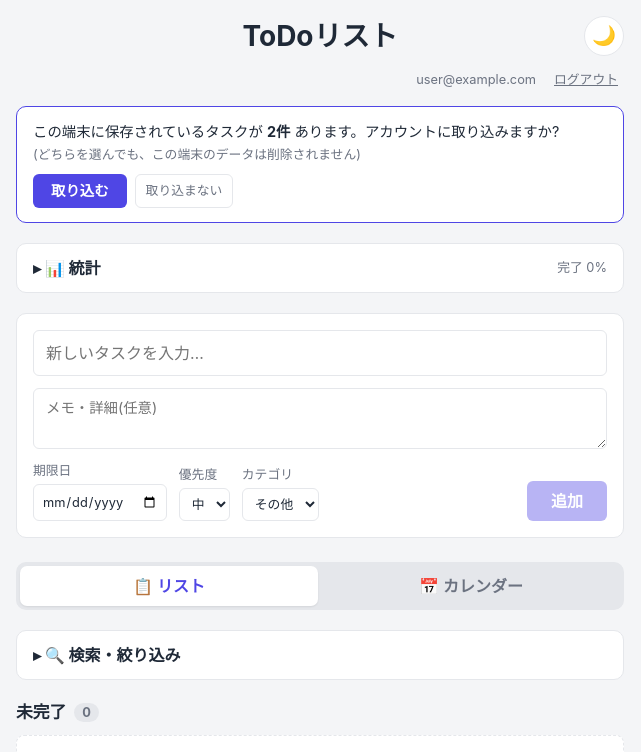
Test case: この端末に保存されていたタスクの取り込み › 「取り込む」でアカウントに追加され、画面にも表示される。端末のデータは消えない
Step 1. Click the button "取り込む" → (80, 191), box 33,174 -> 127,208
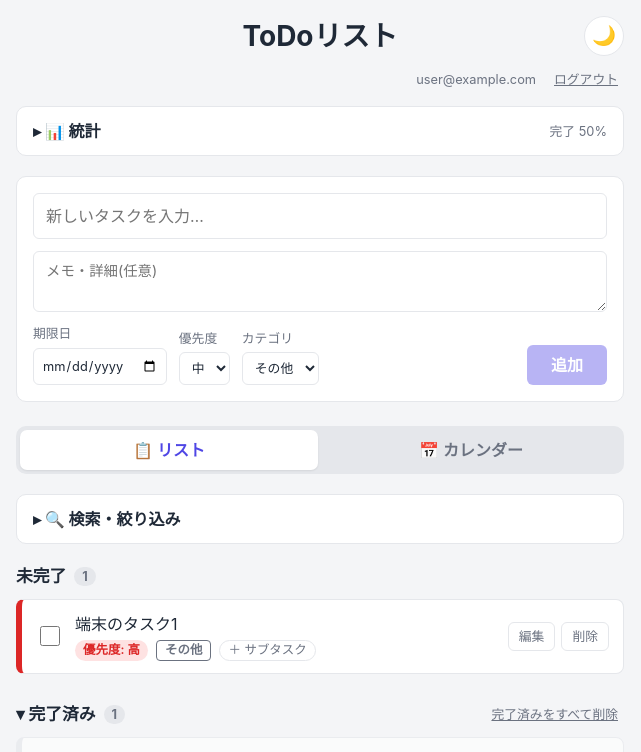
Check: the text "端末のタスク1" is shown, box 75,614 -> 178,634
Check: the element "この端末のタスクの取り込み" is gone
